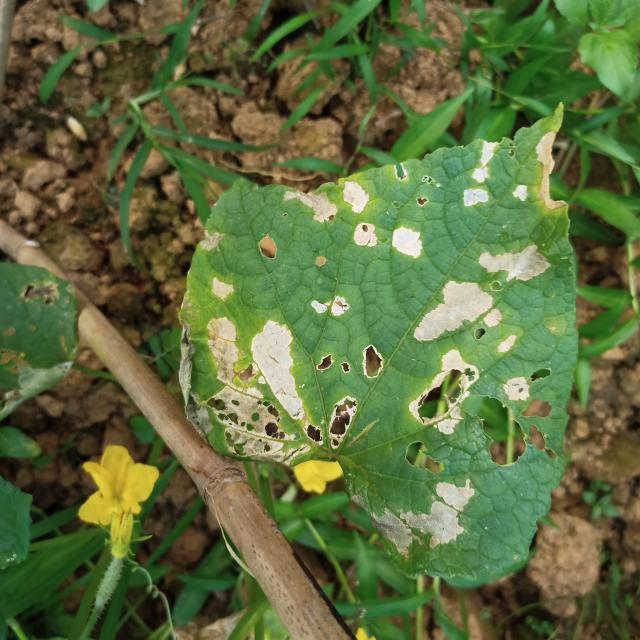disease_cucumber: (268, 129, 598, 344), (162, 268, 393, 496), (381, 336, 563, 570)
